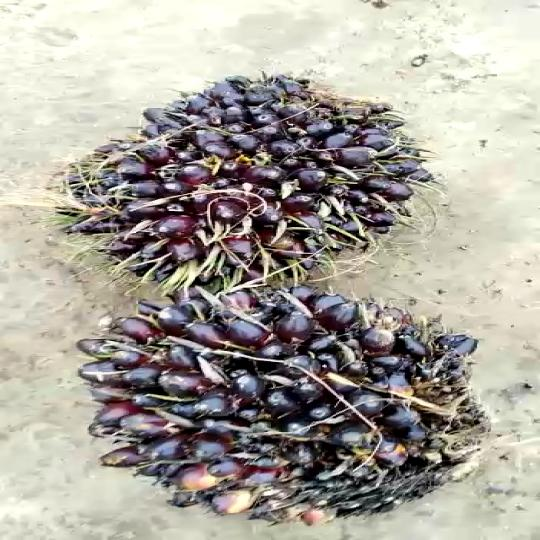mentah: (64, 279, 507, 537), (75, 70, 438, 295)
